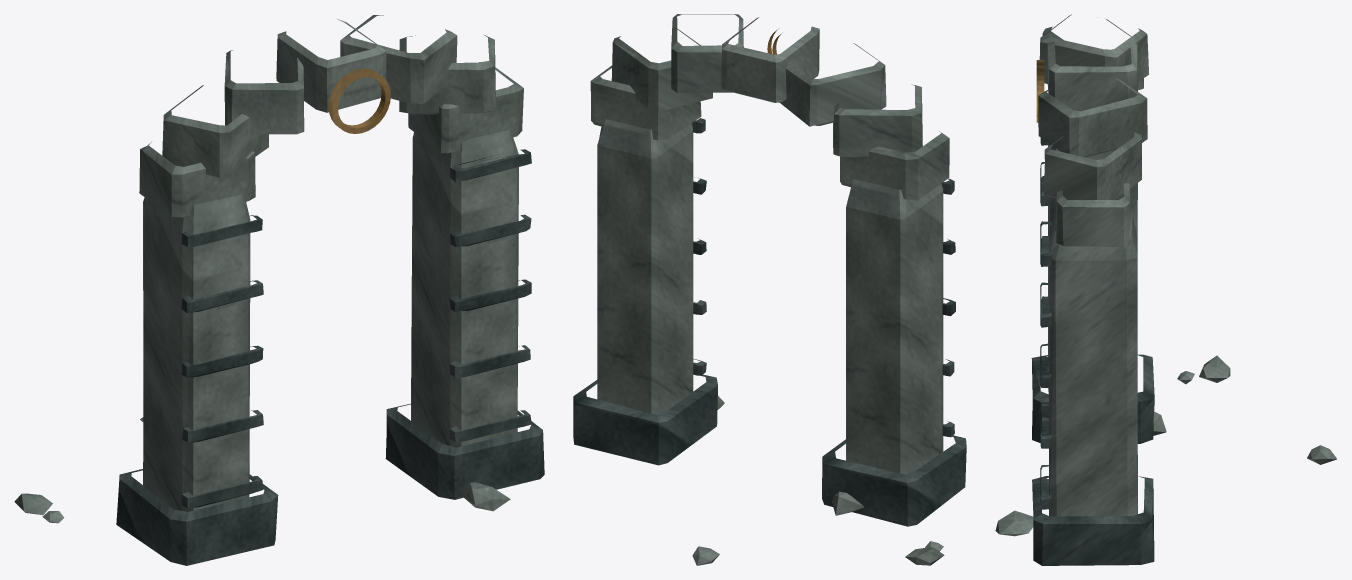
File: 0323_archway_23.glb
The picture shows the model from 3 angles, left to right: view 1: azimuth 30°, elevation 25°; view 2: azimuth 150°, elevation 25°; view 3: azimuth 270°, elevation 25°; orthographic projection. The views are drawn at different scales.
Parts seen in each view (by area): view 1: stone, stone_dark, brass; view 2: stone, stone_dark; view 3: stone, stone_dark.
Boxes of the visible parts, box(x1,y1,x2,y2) form: stone: box(14, 15, 523, 523); stone_dark: box(116, 149, 544, 565); brass: box(328, 68, 390, 133); stone: box(590, 14, 949, 565); stone_dark: box(573, 118, 966, 526); stone: box(995, 14, 1336, 536); stone_dark: box(1031, 138, 1154, 565).
Size of the model in its own units: 3.28 by 3.36 by 2.41.
3 materials, 3 textured.
